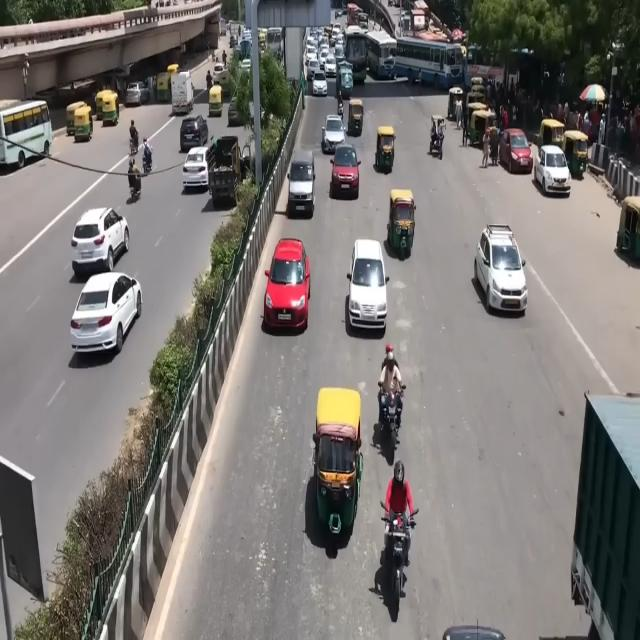auto: (312, 379, 361, 551), (386, 188, 416, 260), (616, 195, 639, 260), (374, 124, 396, 172), (66, 101, 92, 139), (96, 90, 119, 124), (347, 98, 364, 136), (208, 84, 224, 117), (156, 71, 172, 103), (216, 66, 232, 96)
bike-auto: (384, 462, 414, 562), (378, 350, 404, 426), (128, 159, 141, 199), (142, 136, 152, 172), (130, 120, 138, 154), (437, 120, 445, 154)
